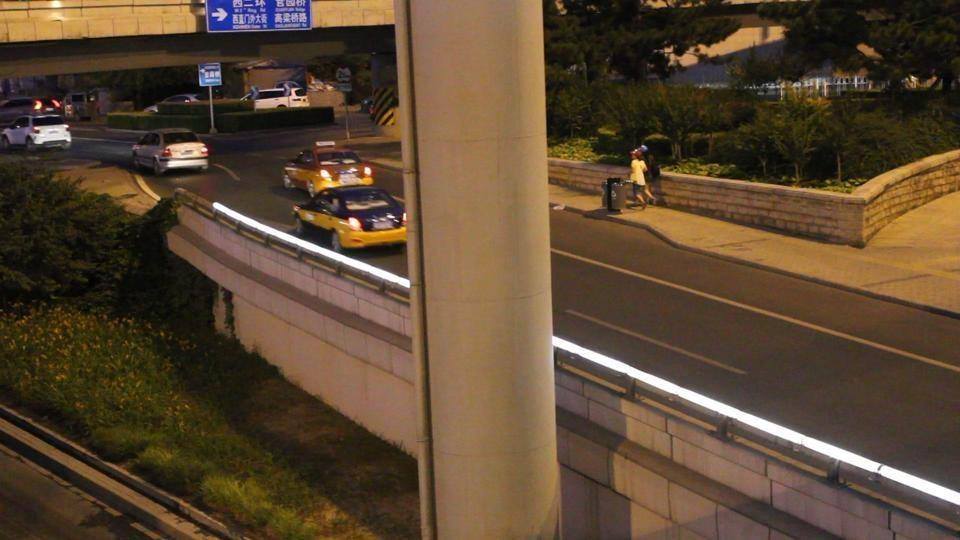car: (291, 185, 408, 251), (282, 143, 376, 195), (130, 127, 210, 176), (0, 113, 72, 153), (242, 83, 309, 110), (0, 97, 64, 123), (61, 93, 95, 121)
